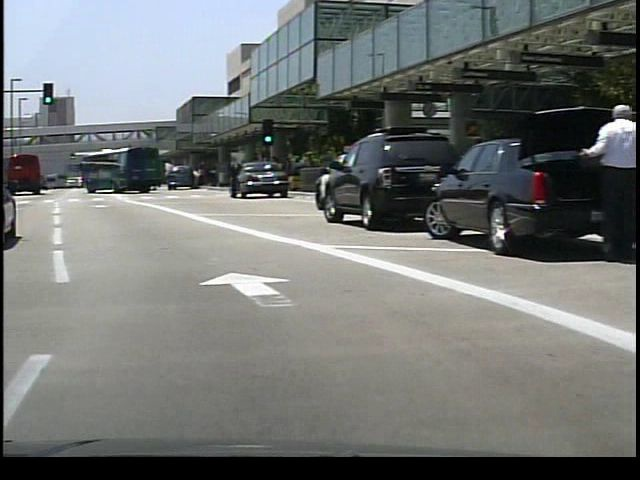person: (558, 100, 632, 261)
